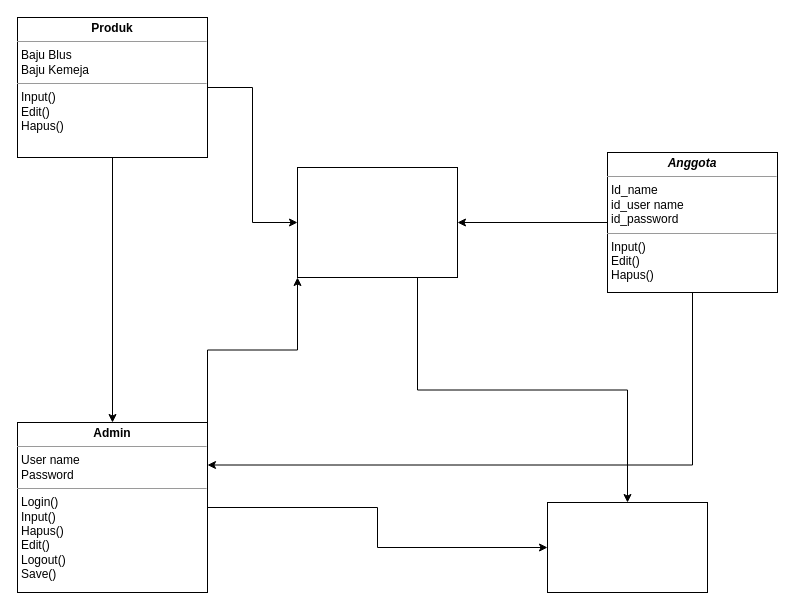
Image size: 795x610. Some labels were removed from this diagram. Each missing label, with the centre of its shape:
Pembayaran Tranfer COD Input(): point (627, 547)
Sistem Login Menu_display Login_display: point (377, 222)
